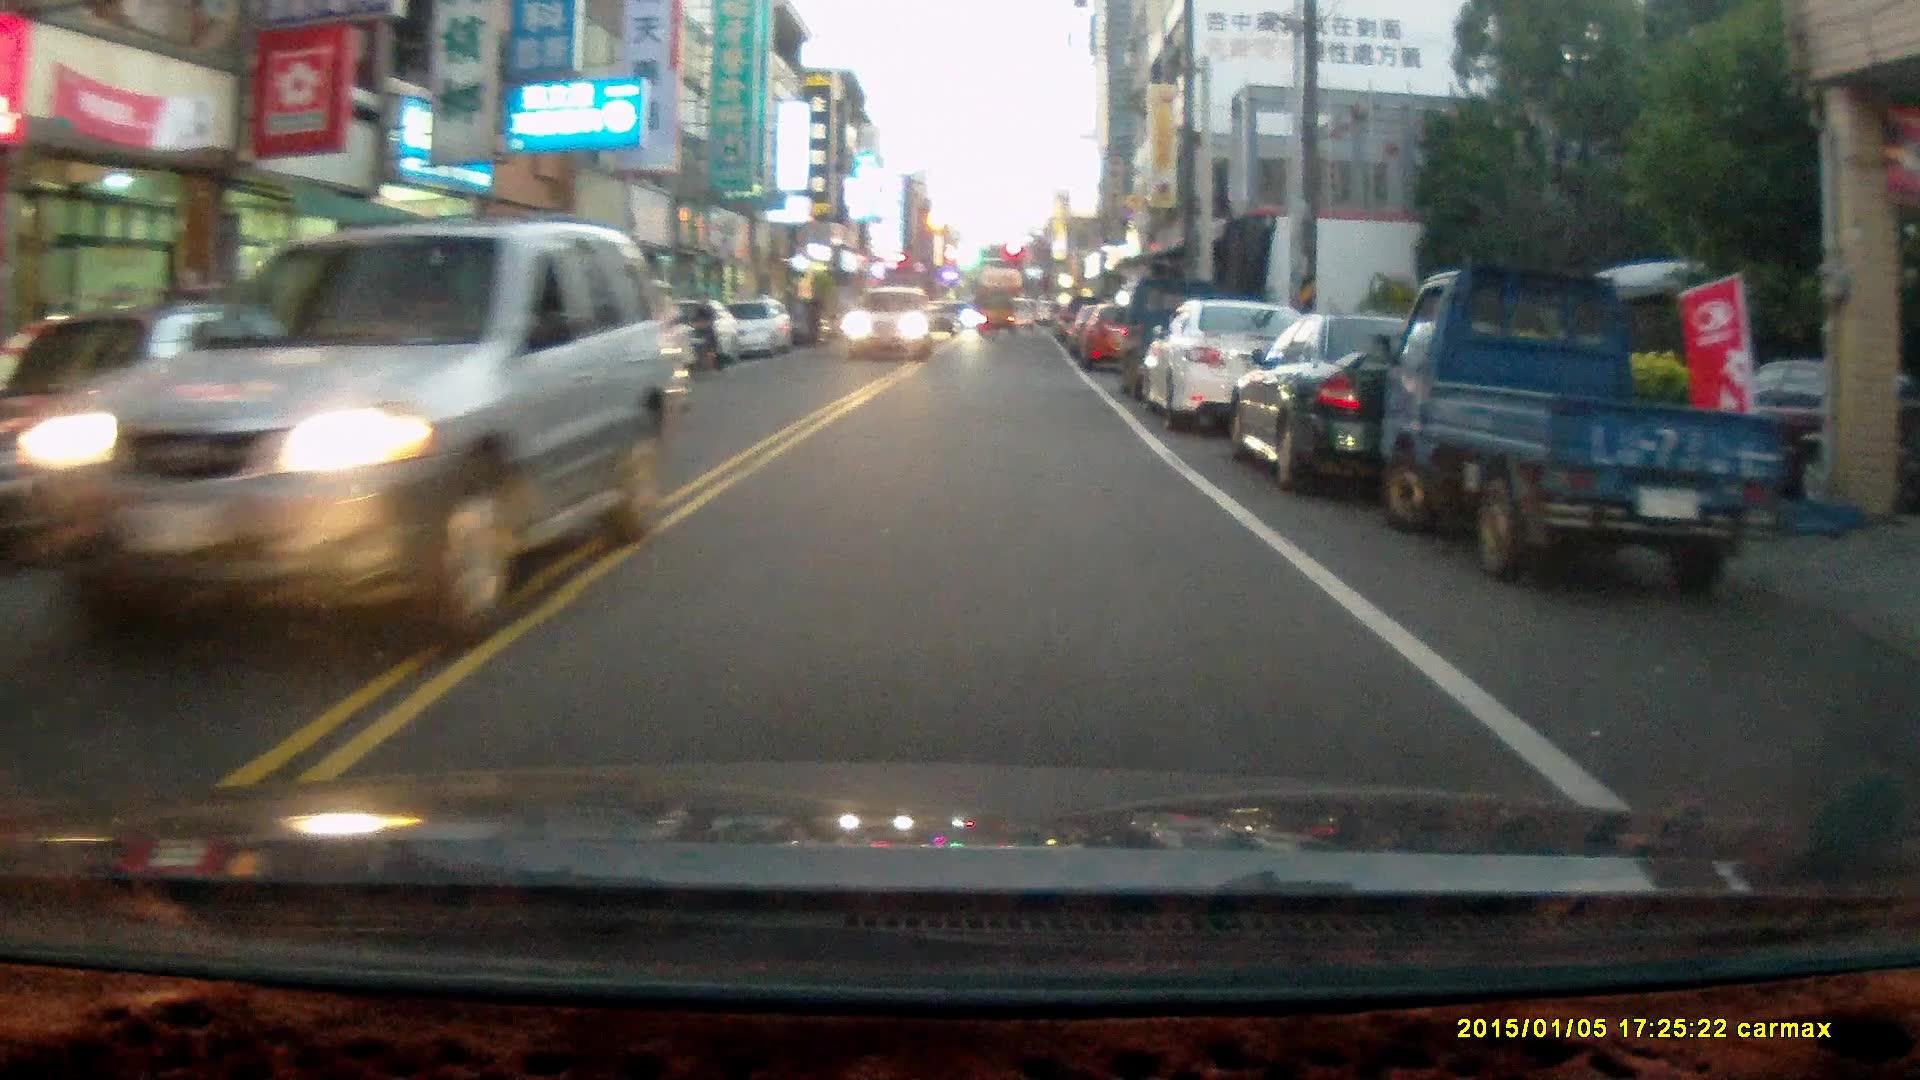pedestrian: (805, 284, 826, 343)
rider: (681, 291, 724, 375)
vehicle: (26, 215, 659, 651), (1378, 266, 1807, 593), (1, 297, 408, 540), (1225, 310, 1564, 501), (1137, 298, 1327, 436), (842, 286, 934, 367), (1079, 300, 1159, 374), (722, 295, 801, 362), (976, 288, 1018, 337)
